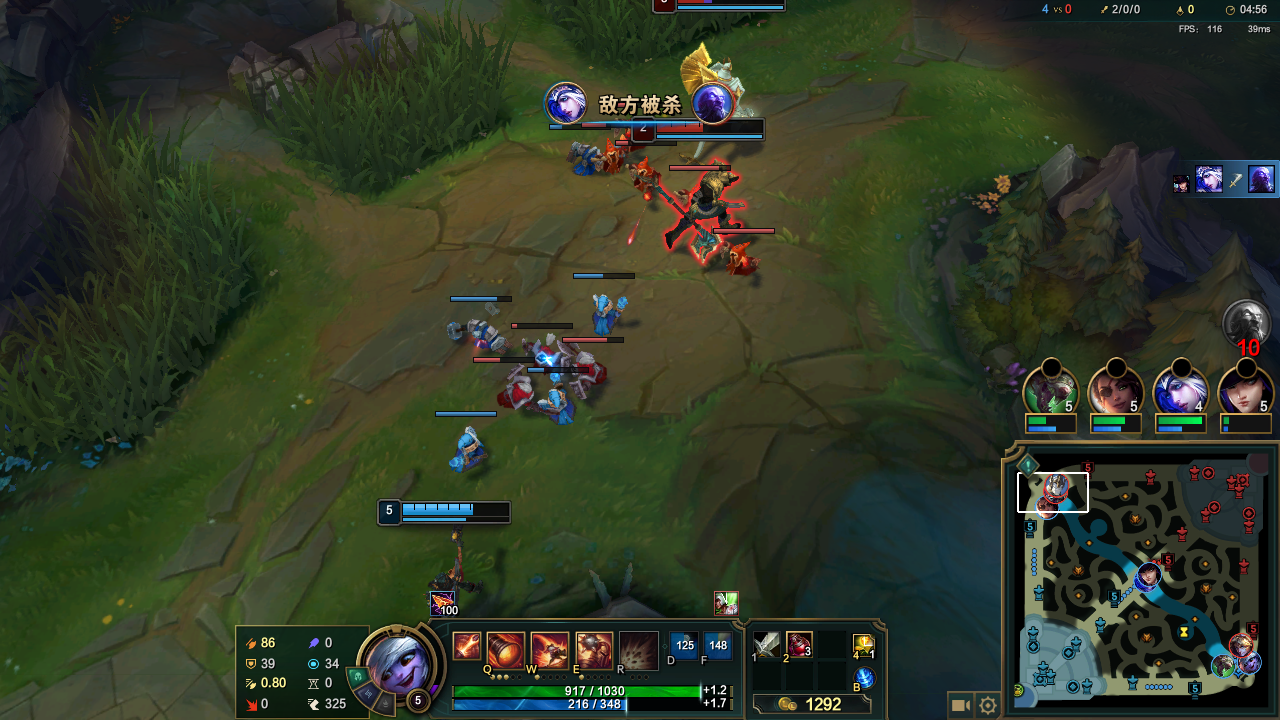DFXB: (715, 237, 771, 290), (559, 337, 605, 391), (584, 132, 624, 176), (498, 366, 536, 408), (626, 155, 661, 194), (521, 335, 555, 367), (621, 129, 639, 154)
DFYX: (654, 126, 749, 139)
WFXB: (579, 291, 637, 339), (451, 313, 511, 356), (536, 379, 582, 429), (449, 425, 496, 473), (560, 134, 604, 176)
Yita: (1187, 679, 1204, 699)
